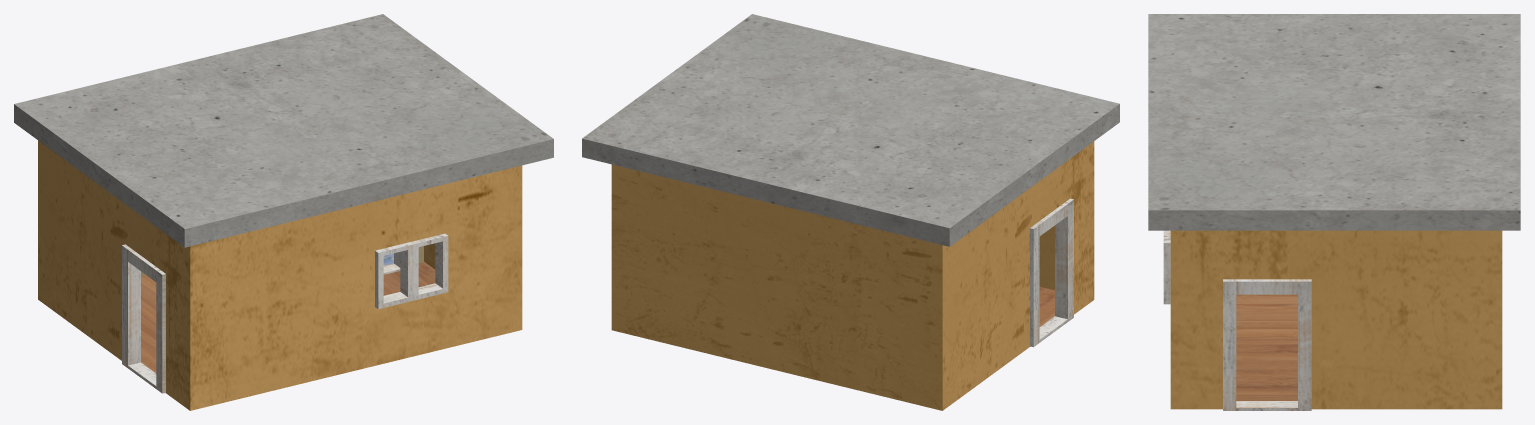
The model's file is house ver6.FBX.
3 views of the same model, side by side, from view 1: azimuth 30°, elevation 25°; view 2: azimuth 150°, elevation 25°; view 3: azimuth 270°, elevation 25° (orthographic). The views are drawn at different scales.
Parts seen in each view (by area): view 1: house ver6; view 2: house ver6; view 3: house ver6.
Boxes of the visible parts, x1,y1,x2,y2 form: house ver6: (14, 14, 553, 410); house ver6: (582, 14, 1119, 410); house ver6: (1148, 14, 1520, 410).
Size of the model in its own units: 625 by 313 by 501.
